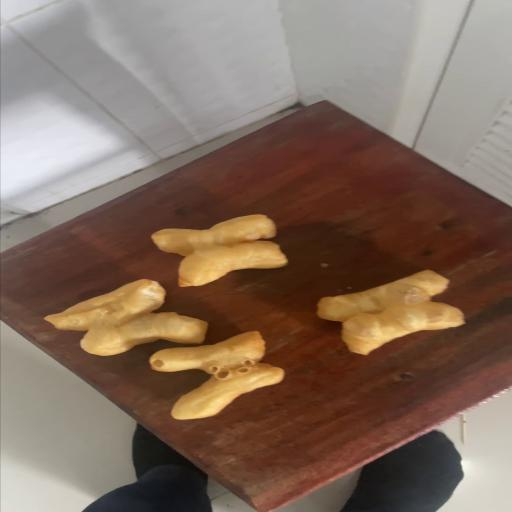street_golden_defect: (316, 271, 462, 355), (149, 332, 281, 420)
street_golden_good: (153, 214, 286, 286)
